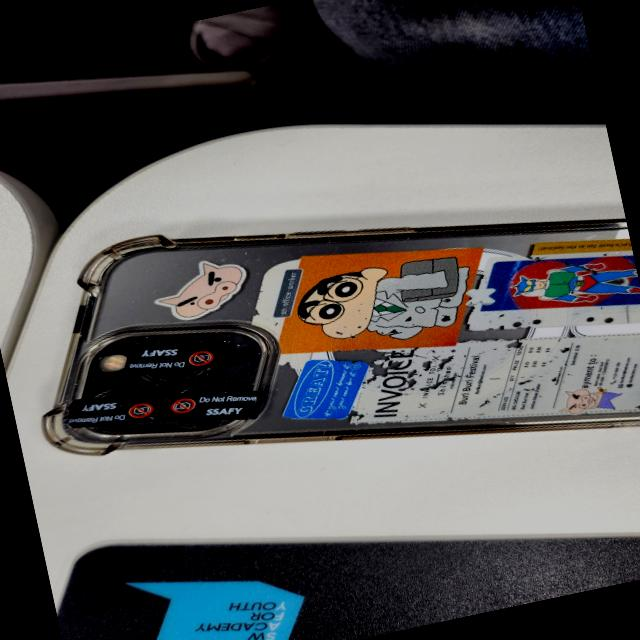phone: (5, 136, 640, 558)
sticker: (117, 324, 233, 388), (158, 372, 272, 437), (58, 378, 165, 440)
